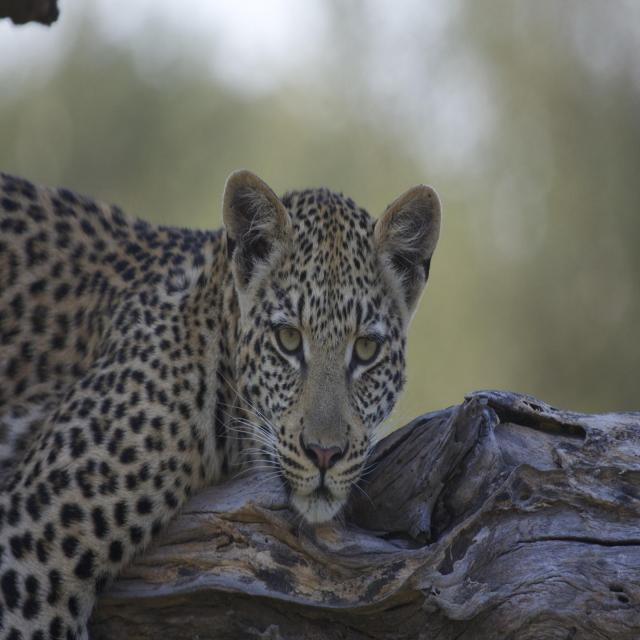Leopard: (0, 155, 457, 640)
